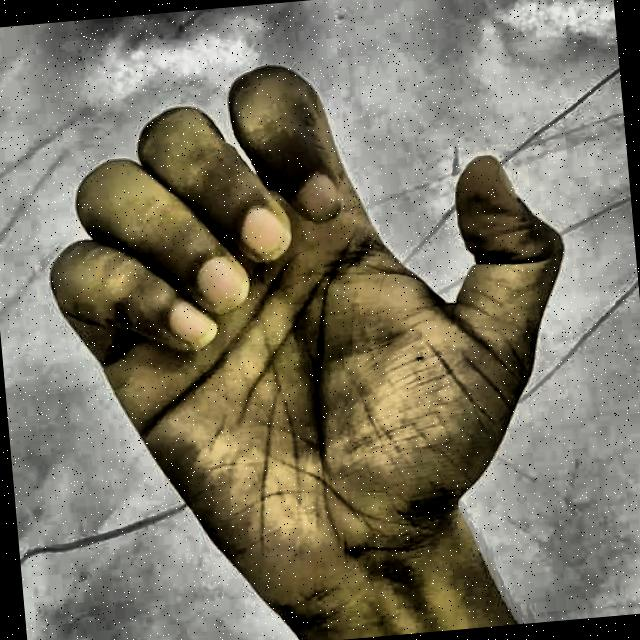Dho: (15, 35, 618, 632)
